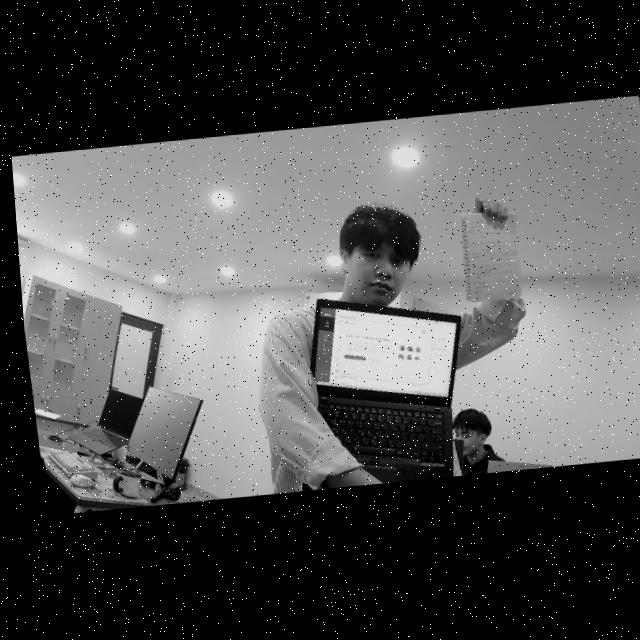face: (339, 215, 415, 308)
